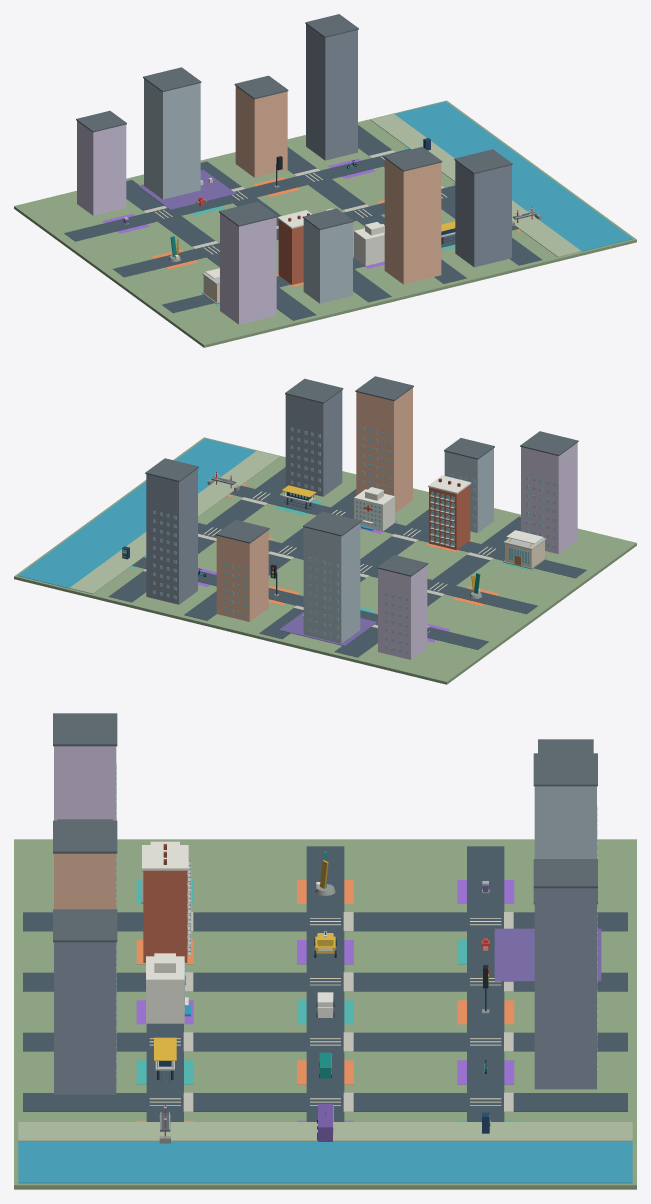
File: metrovale.glb
The picture shows the model from 3 angles, top to bottom: view 1: azimuth 30°, elevation 25°; view 2: azimuth 150°, elevation 25°; view 3: azimuth 270°, elevation 25°; orthographic projection. The views are drawn at different scales.
Parts seen in each view (by area): view 1: background-building (×8), city-island, river-channel, avenue (×4), roof-cap (×8), cross-street (×3), river-promenade, apartment-tower, civic-plaza, hospital-main; view 2: background-building (×8), city-island, river-channel, avenue (×4), cross-street (×3), roof-cap (×8), river-promenade, apartment-tower, hospital-main, civic-plaza, library, roof; view 3: city-island, background-building (×5), avenue (×4), river-channel, cross-street (×3), river-promenade, roof-cap (×6), apartment-tower, civic-plaza, hospital-main, roof.
Boxes of the visible parts, x1,y1,x2,y2 form: background-building (×8): (77, 24, 511, 324); city-island: (14, 100, 636, 347); river-channel: (395, 101, 632, 251); avenue (×4): (126, 125, 542, 320); roof-cap (×8): (76, 14, 512, 229); cross-street (×3): (64, 149, 518, 313); river-promenade: (371, 114, 581, 257); apartment-tower: (278, 220, 303, 284); civic-plaza: (138, 170, 235, 209); hospital-main: (354, 224, 384, 265); background-building (×8): (146, 388, 577, 659); city-island: (14, 437, 636, 684); river-channel: (18, 438, 255, 588); avenue (×4): (108, 467, 520, 657); cross-street (×3): (132, 485, 586, 649); roof-cap (×8): (145, 376, 578, 576); river-promenade: (69, 451, 280, 593); apartment-tower: (429, 485, 470, 550); hospital-main: (354, 489, 394, 531); civic-plaza: (279, 612, 377, 646); library: (505, 541, 544, 567); roof: (428, 475, 471, 493); city-island: (14, 839, 636, 1189); background-building (×5): (54, 746, 596, 1094); avenue (×4): (23, 912, 627, 1111); river-channel: (18, 1141, 632, 1183); cross-street (×3): (146, 846, 504, 1121); river-promenade: (18, 1122, 632, 1141); roof-cap (×6): (53, 713, 597, 942); apartment-tower: (143, 870, 187, 962); civic-plaza: (494, 928, 601, 981); hospital-main: (146, 956, 184, 1023); roof: (142, 845, 188, 870).
Bounding box in the file's own units: 92 × 25.79 × 70.
